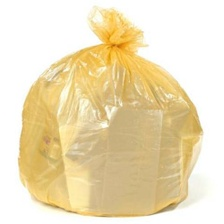plastic_bag: (15, 2, 212, 222)
